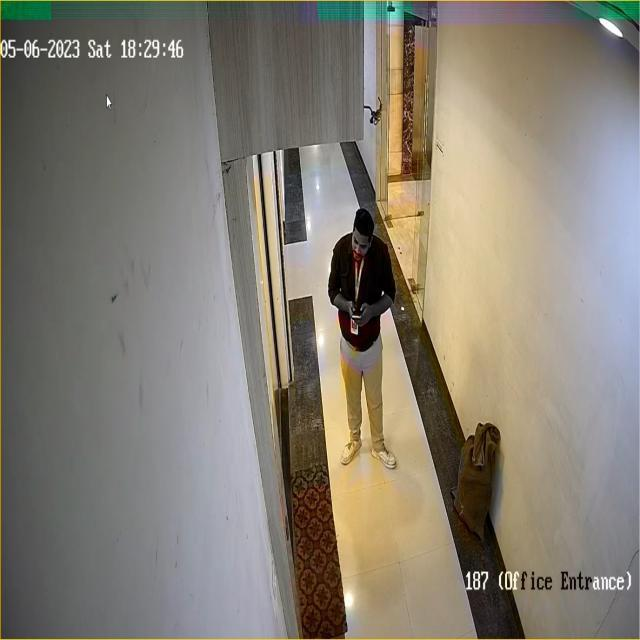gunny_bag: (453, 417, 505, 548)
